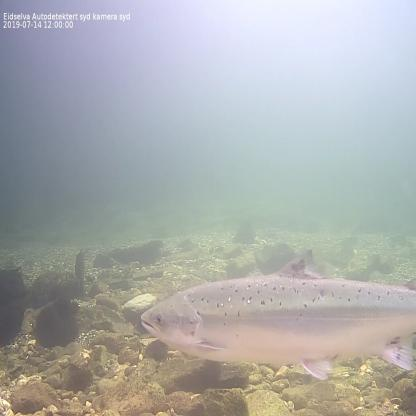salmon: (140, 244, 416, 382)
